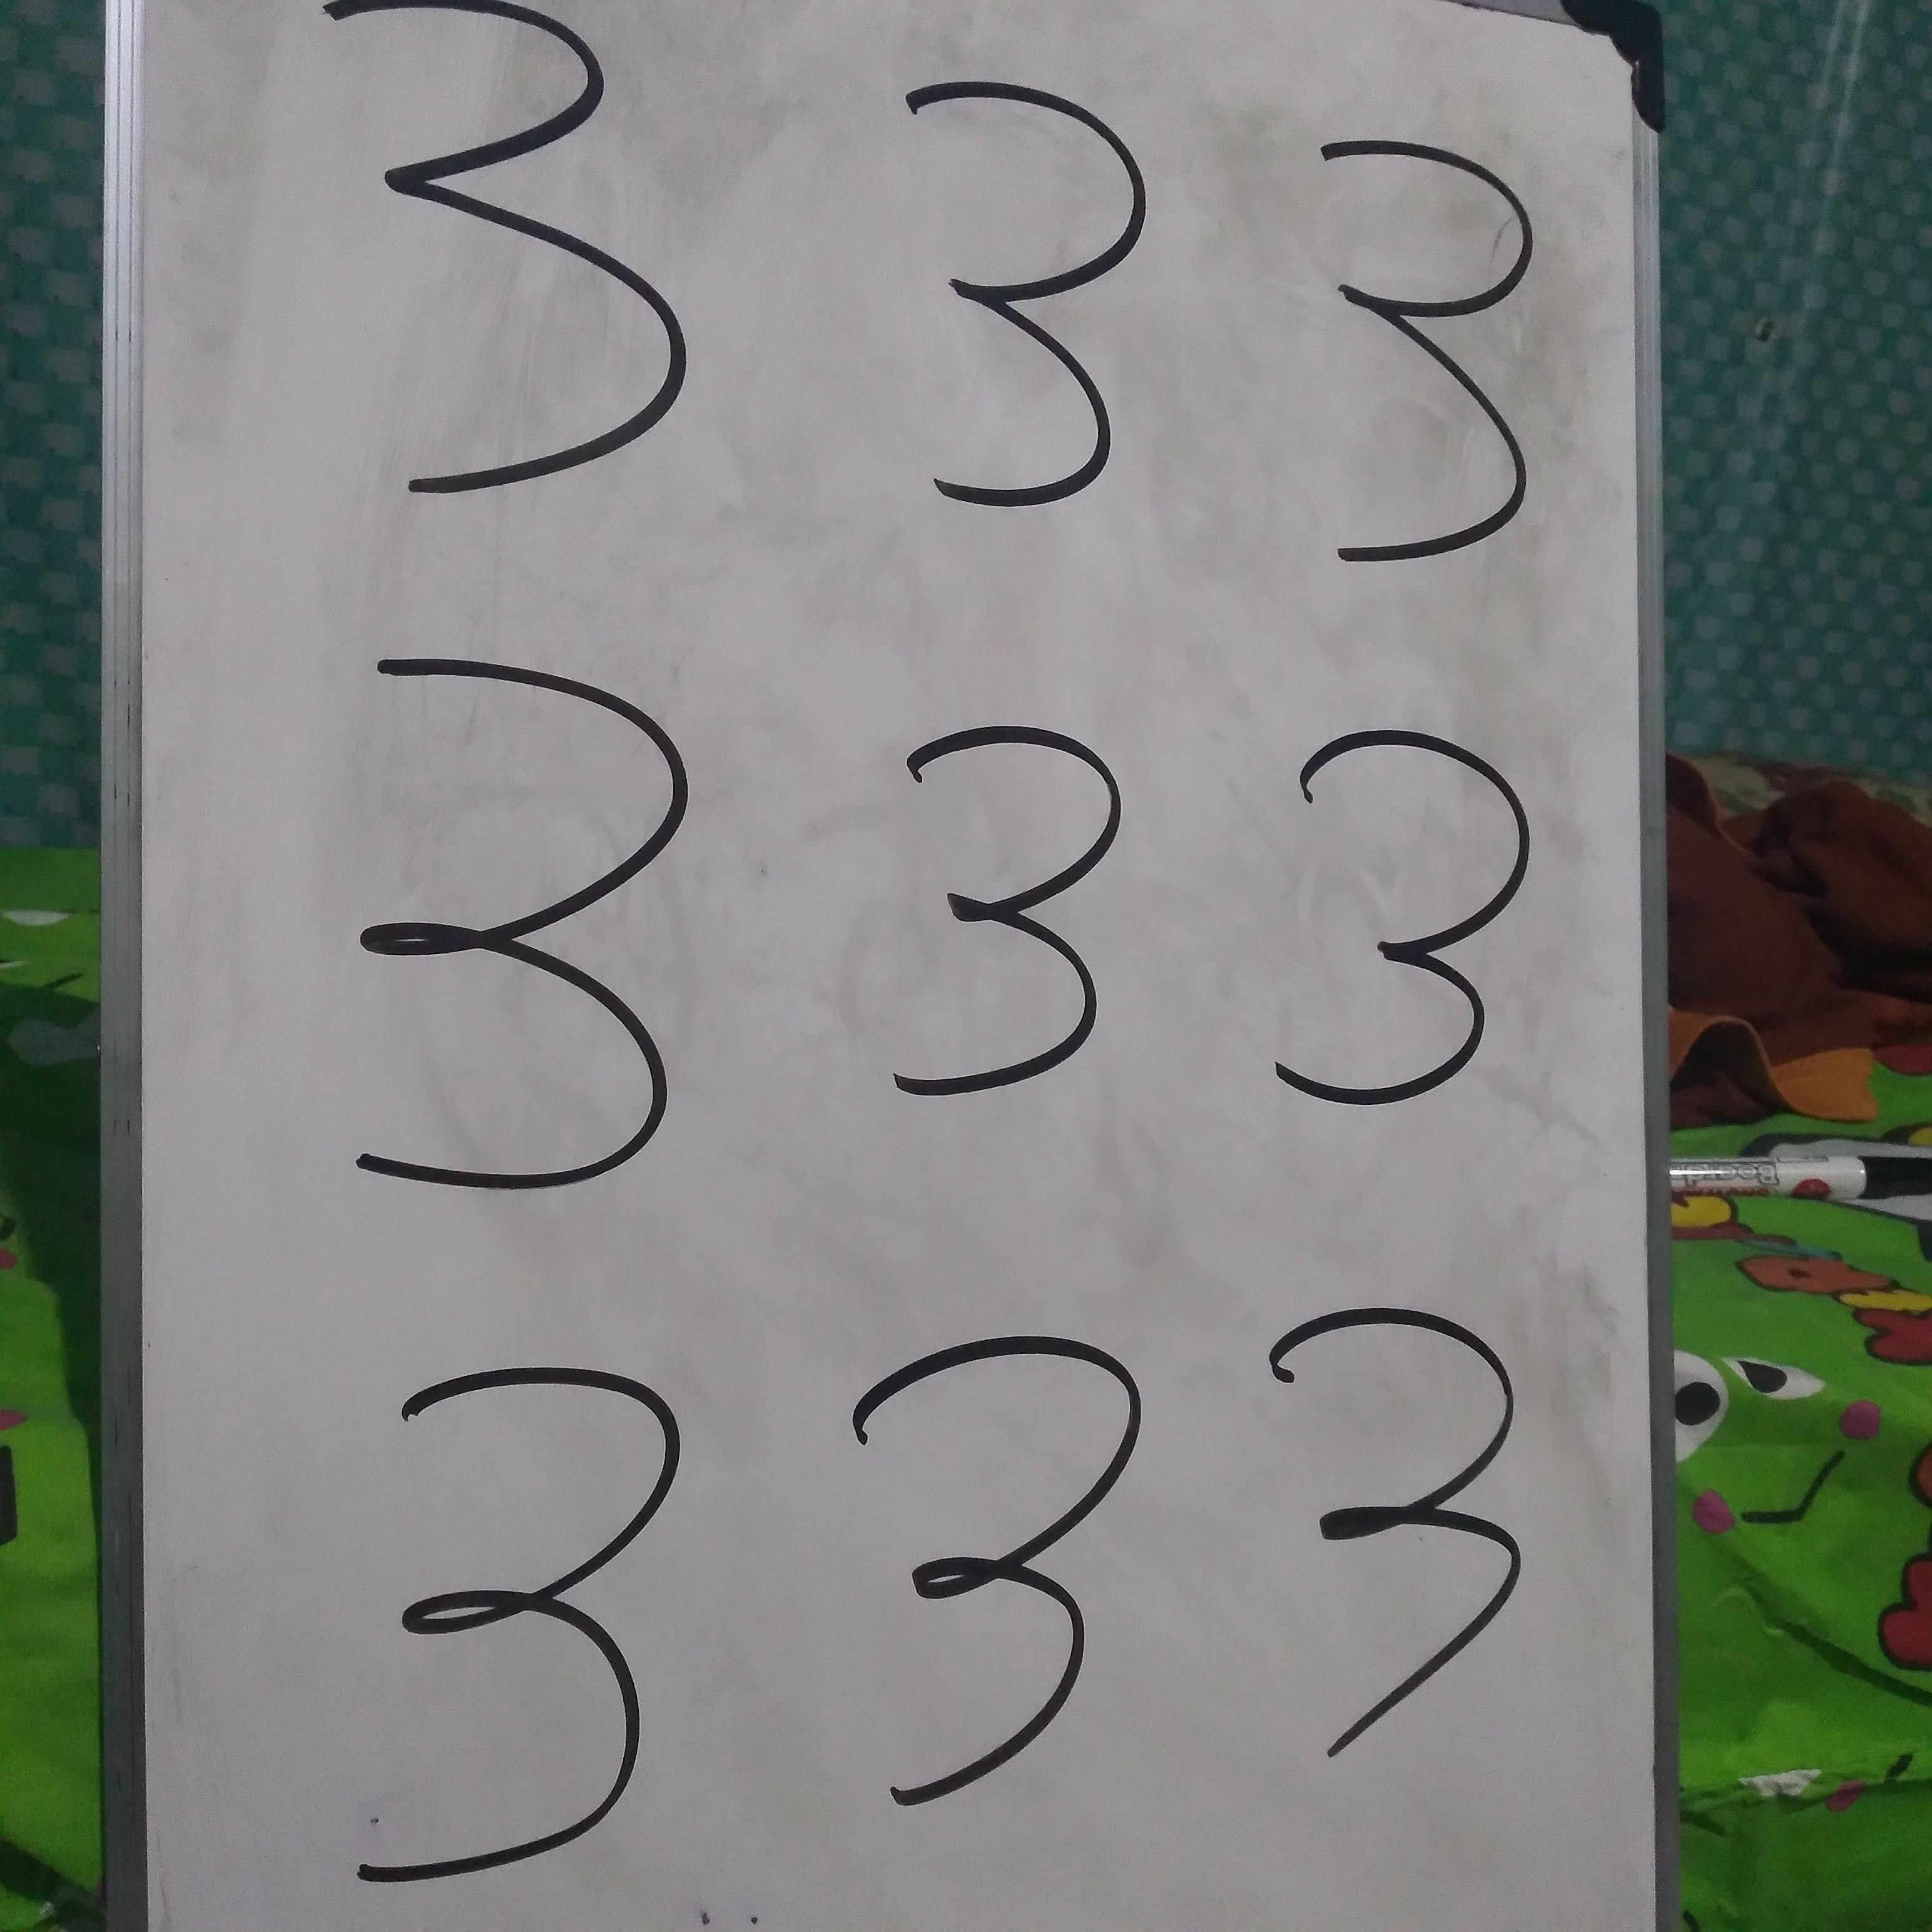num3: (795, 651, 1220, 1229), (785, 19, 1209, 597), (275, 1, 700, 578), (1189, 69, 1614, 648), (1166, 631, 1590, 1209), (308, 1334, 733, 1912), (759, 1284, 1184, 1863), (1171, 1277, 1596, 1855), (283, 647, 708, 1225)
